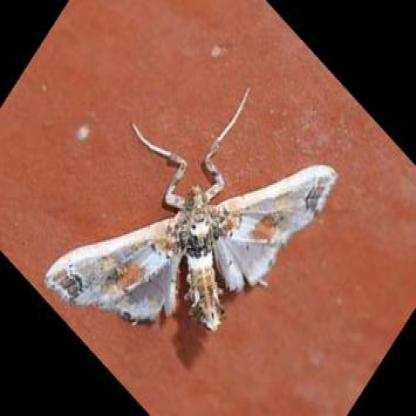leucinodes: (44, 125, 340, 335)
